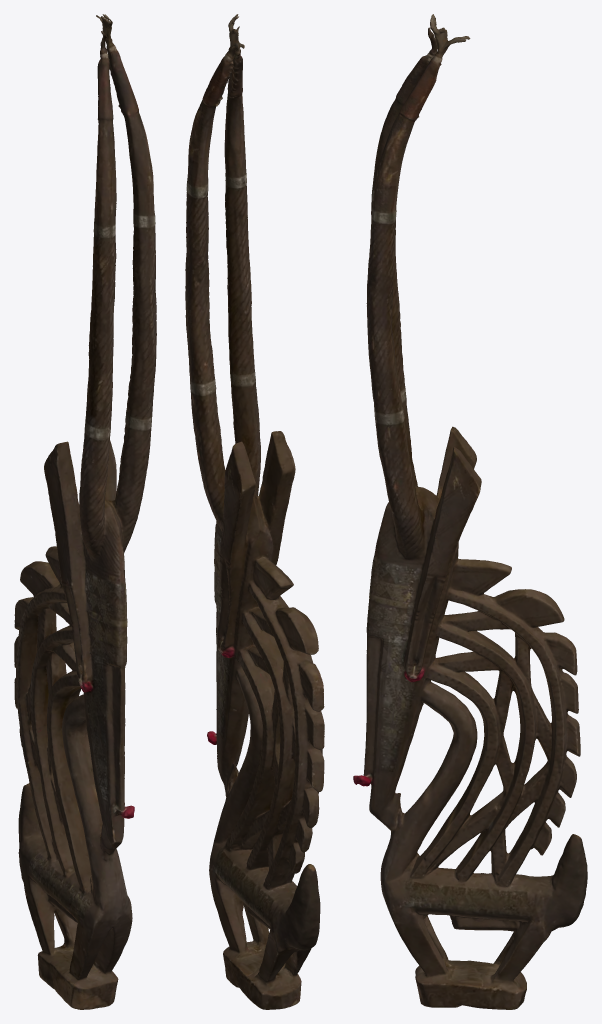
The model's file is preview.glb.
3 views of the same model, side by side, from view 1: azimuth 30°, elevation 25°; view 2: azimuth 210°, elevation 25°; view 3: azimuth 270°, elevation 25° (orthographic). The views are drawn at different scales.
Visible parts, largest first — view 1: Object_2; view 2: Object_2; view 3: Object_2.
Boxes of the visible parts, x1,y1,x2,y2 form: Object_2: [14, 14, 156, 1009]; Object_2: [185, 14, 324, 1009]; Object_2: [353, 14, 587, 1009].
Size of the model in its own units: 0.0898 by 1.32 by 0.2843.
1 material, 1 textured.
